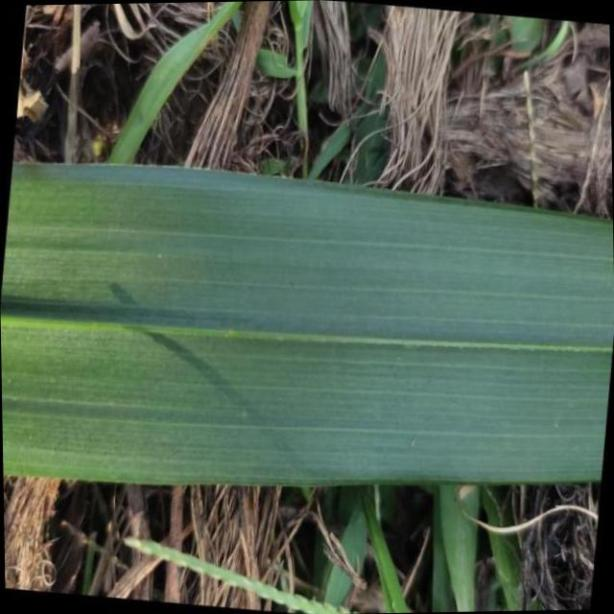Healthy: (0, 163, 614, 480)
